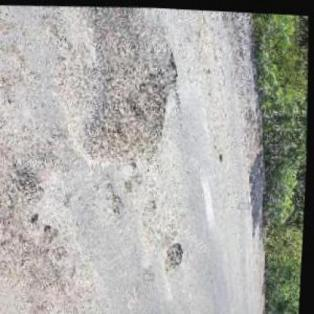Hueco: (68, 43, 184, 168), (163, 238, 189, 272), (45, 222, 62, 244), (112, 192, 127, 214), (30, 213, 42, 225), (218, 149, 227, 160)
